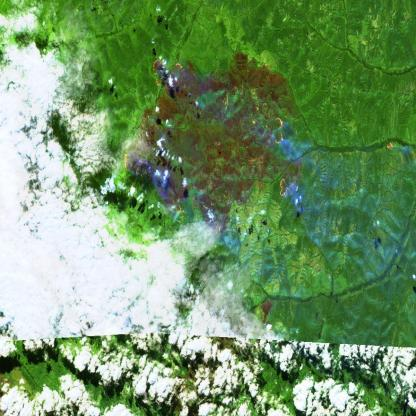fire: (150, 47, 182, 95), (121, 150, 148, 183), (204, 214, 229, 246), (276, 171, 301, 201), (268, 113, 288, 150), (140, 100, 154, 135), (386, 136, 401, 154)
